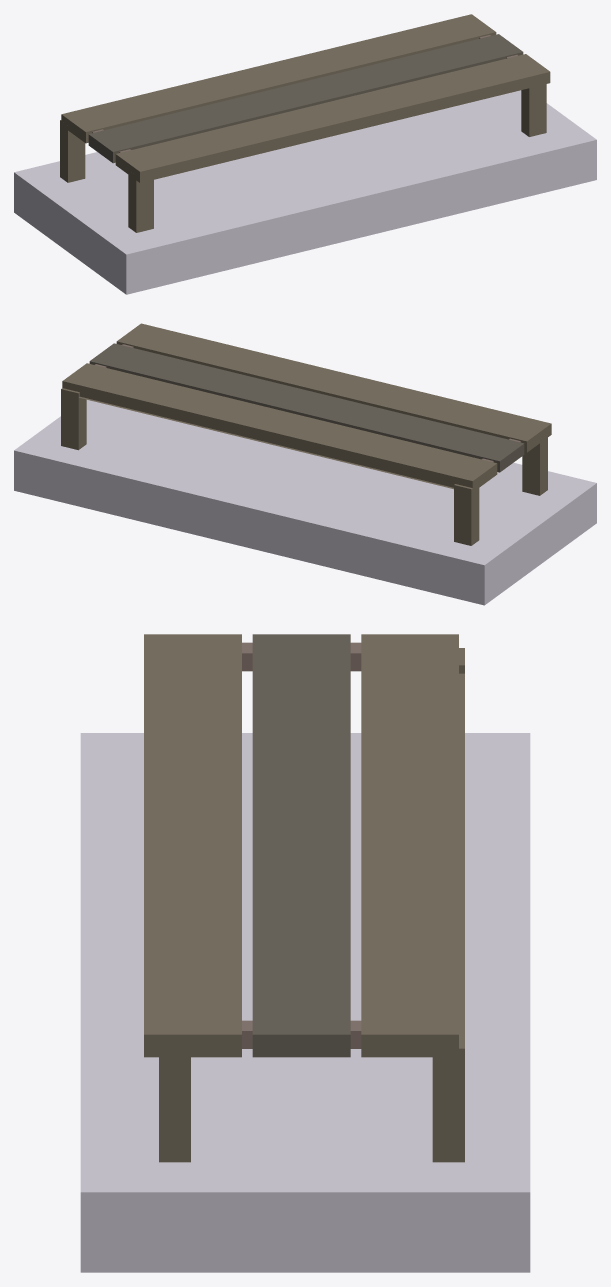
Rendered from grass_bench.fbx.
3 renders of one model, top to bottom at view 1: azimuth 30°, elevation 25°; view 2: azimuth 150°, elevation 25°; view 3: azimuth 270°, elevation 25°, orthographic. The views are drawn at different scales.
Parts seen in each view (by area): view 1: white base.009, bench without back; view 2: white base.009, bench without back; view 3: white base.009, bench without back.
Part boxes in pixels (x1,y1,x2,y2): white base.009: [14, 90, 596, 294]; bench without back: [60, 14, 550, 232]; white base.009: [14, 400, 596, 605]; bench without back: [61, 323, 551, 545]; white base.009: [80, 733, 530, 1272]; bench without back: [144, 634, 464, 1162].
Size of the model in its own units: 297 by 62.83 by 123.
